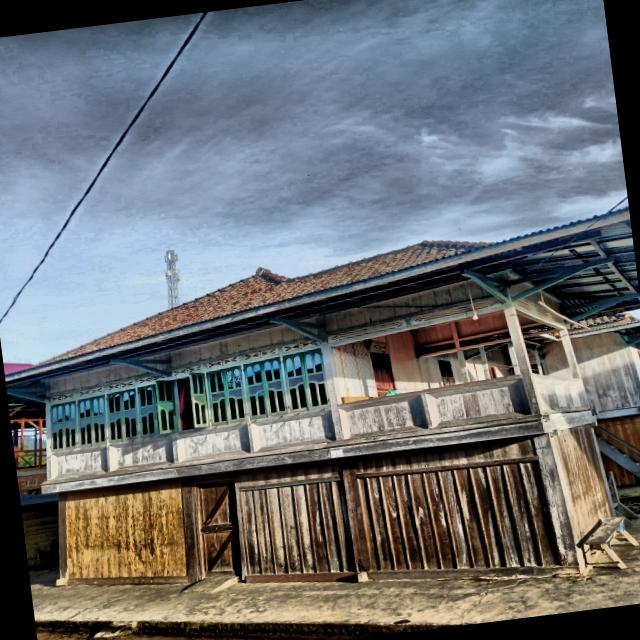roof: (5, 208, 639, 403), (37, 207, 628, 366), (40, 241, 490, 364), (569, 318, 639, 350), (566, 313, 636, 336), (20, 494, 57, 506)
